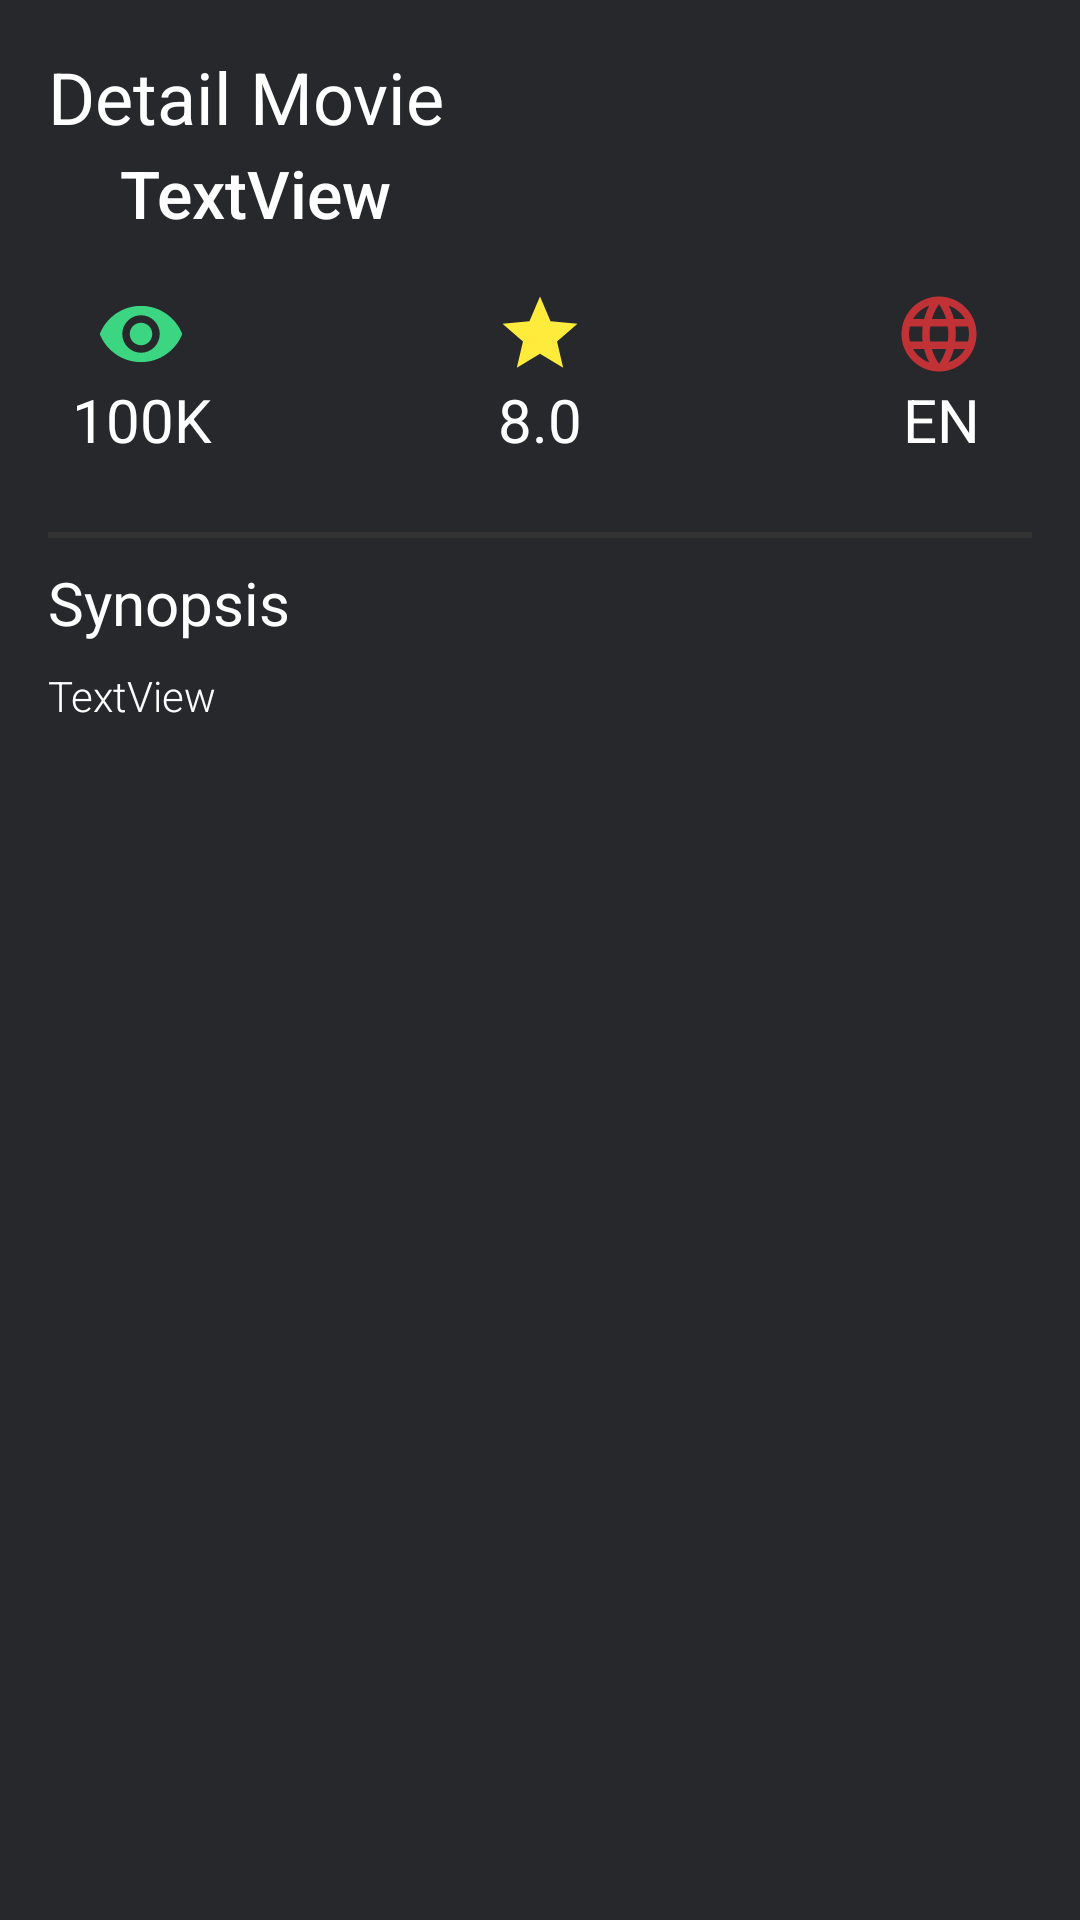

Where to tap for icons on this 1080*1920 app screen, as point (x, y):
language: point (939, 334)
star: point (540, 332)
